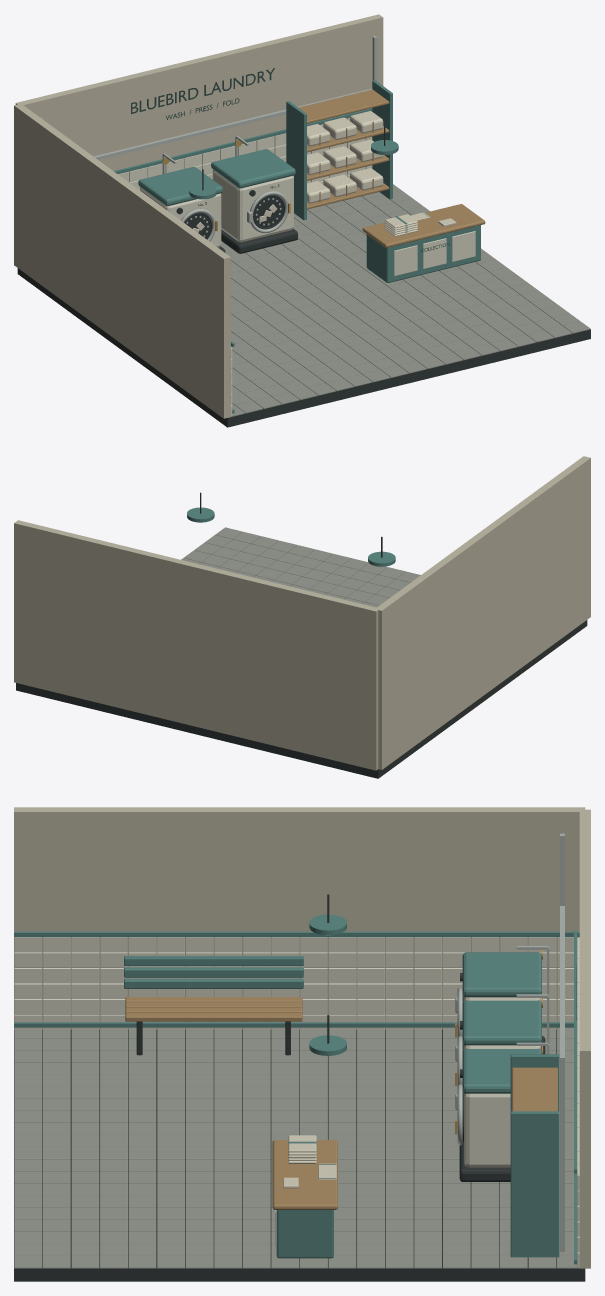
File: interior-laundry.glb
3 renders of one model, top to bottom at view 1: azimuth 30°, elevation 25°; view 2: azimuth 150°, elevation 25°; view 3: azimuth 270°, elevation 25°, orthographic. The views are drawn at different scales.
Parts seen in each view (by area): view 1: quarry tile, west plaster, rear plaster, washer green crown, floor foundation, washer enamel cabinet, scrubbed folding top, folded sheets, rear glazed tile, rear steam main, rear bluebird sign, rear green border (+1 smaller); view 2: rear plaster, west plaster, quarry tile, floor foundation, washer green crown; view 3: quarry tile, west plaster, west glazed tile, washer green crown, floor foundation, scrubbed folding top, west green border, rear plaster, washer enamel cabinet, rear steam main, washer polished door rim, folded sheets (+2 smaller).
Part boxes in pixels (box(x1,y1,x2,y2)): quarry tile: box(221, 184, 590, 416); west plaster: box(14, 104, 230, 418); rear plaster: box(15, 14, 383, 170); washer green crown: box(138, 80, 480, 282); floor foundation: box(17, 125, 590, 427); washer enamel cabinet: box(140, 169, 475, 276); scrubbed folding top: box(299, 89, 485, 247); folded sheets: box(307, 111, 456, 236); rear glazed tile: box(118, 118, 372, 190); rear steam main: box(41, 36, 377, 159); rear bluebird sign: box(131, 68, 274, 119); rear green border: box(113, 108, 372, 174); rear plaster: box(14, 520, 379, 770); west plaster: box(377, 456, 590, 769); quarry tile: box(181, 527, 420, 607); floor foundation: box(16, 492, 587, 778); washer green crown: box(187, 507, 395, 566); quarry tile: box(14, 1029, 579, 1268); west plaster: box(14, 807, 585, 1029); west glazed tile: box(14, 937, 577, 1029); washer green crown: box(124, 914, 559, 1258); floor foundation: box(14, 894, 585, 1281); scrubbed folding top: box(125, 997, 557, 1209); west green border: box(14, 931, 579, 1027); rear plaster: box(579, 809, 590, 1268); washer enamel cabinet: box(275, 996, 540, 1245); rear steam main: box(560, 833, 564, 1251); washer polished door rim: box(455, 946, 549, 1145); folded sheets: box(283, 1135, 336, 1188).
Bounding box in the file's own units: 10.1 × 4.45 × 10.1.
Materials: 11 (1 with a texture image).
